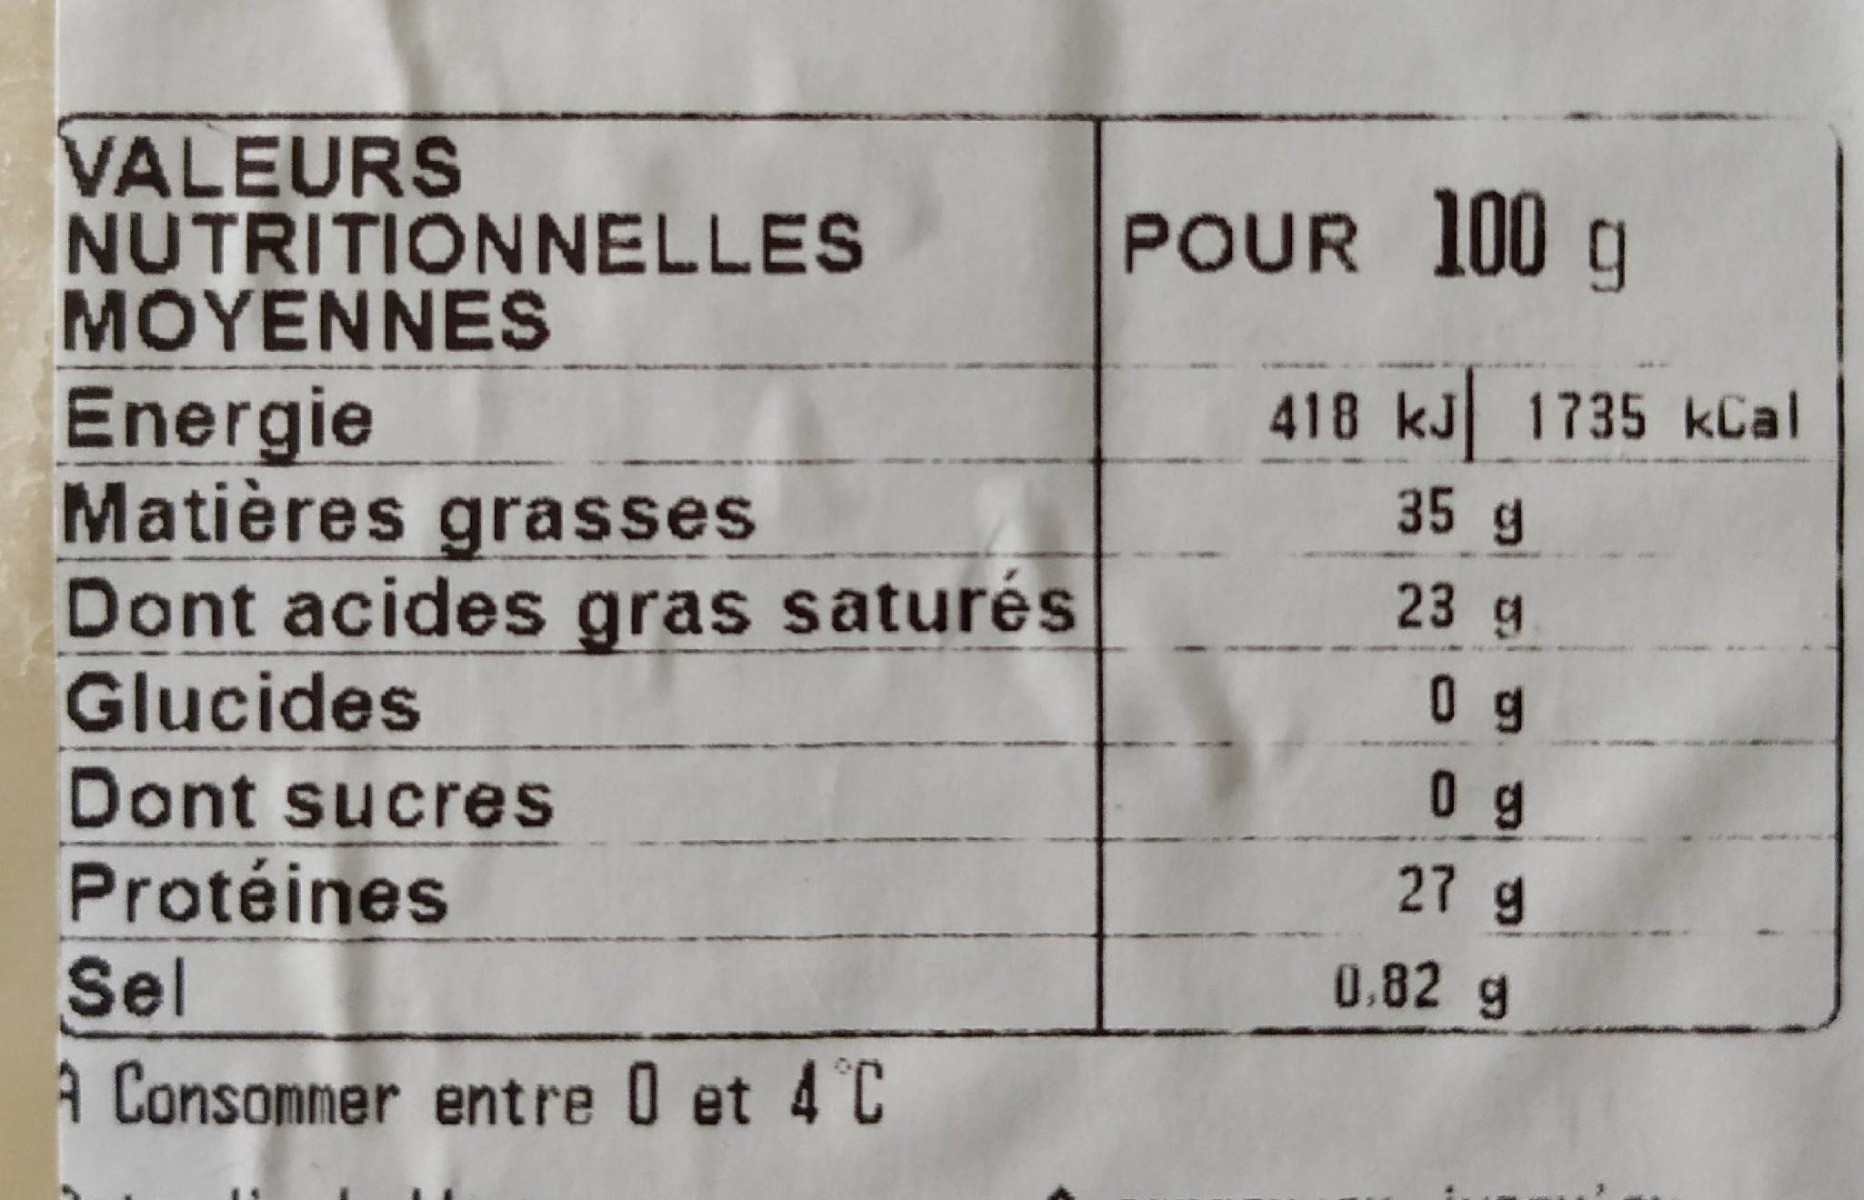column: (54, 120, 1080, 1021), (1124, 129, 1806, 1021)
table: (43, 106, 1844, 1046)
